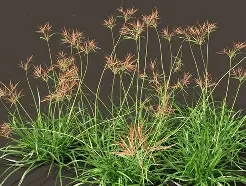weed: (29, 15, 233, 176)
